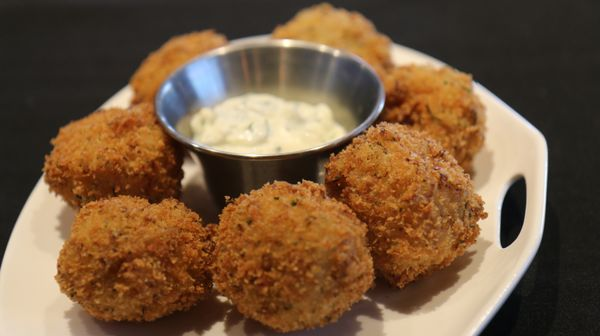sushi: (155, 37, 386, 216)
